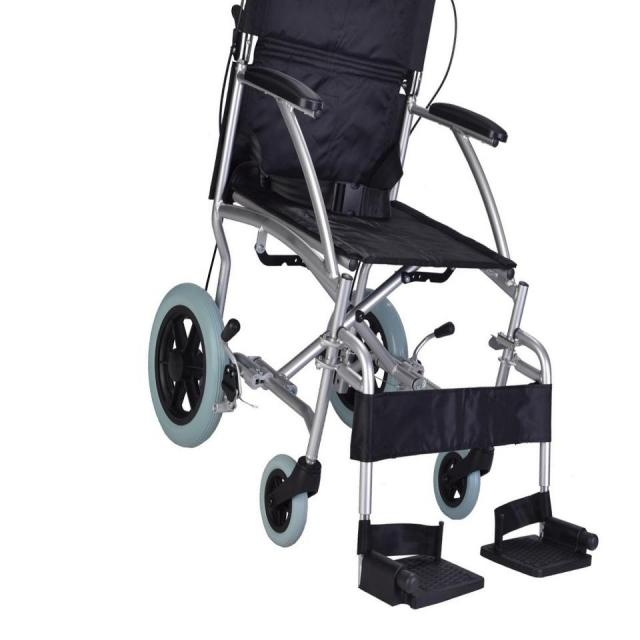wheelchair: (146, 0, 614, 617)
